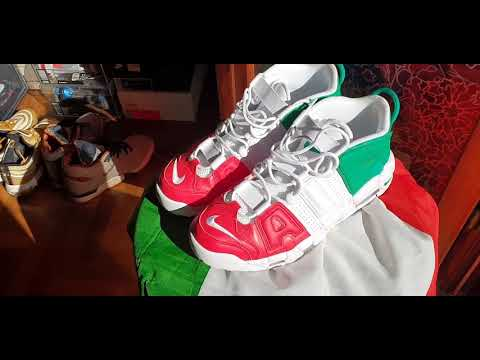Nike Air Uptempo '96 Italy: (189, 82, 406, 269), (153, 62, 349, 217)
